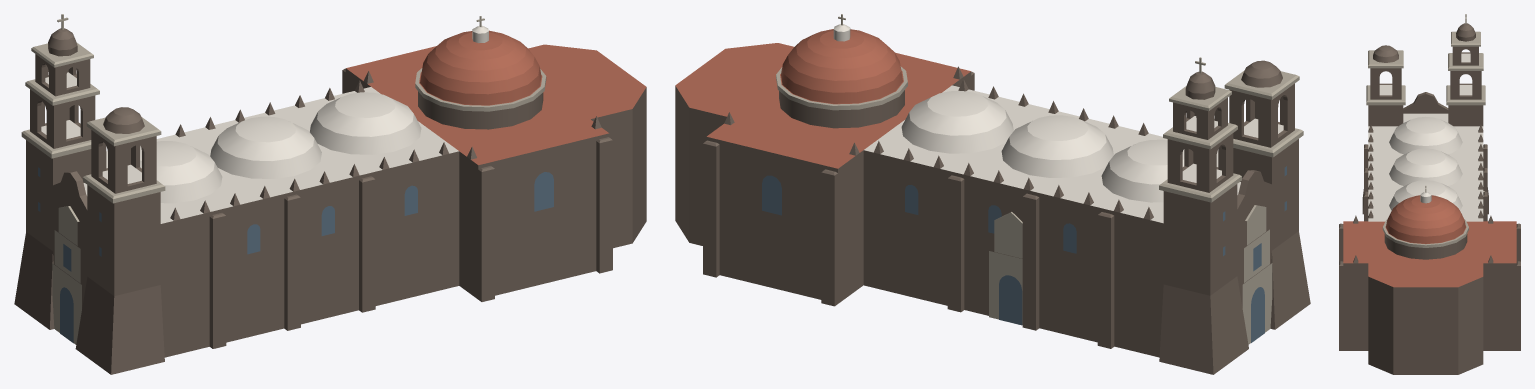
Rendered from mexico-city-santiago-tlatelolco.glb.
3 views of the same model, side by side, from view 1: azimuth 30°, elevation 25°; view 2: azimuth 150°, elevation 25°; view 3: azimuth 270°, elevation 25° (orthographic). The views are drawn at different scales.
Parts seen in each view (by area): view 1: Templo de Santiago Tlatelolco; view 2: Templo de Santiago Tlatelolco; view 3: Templo de Santiago Tlatelolco.
Boxes of the visible parts, box(x1,y1,x2,y2) form: Templo de Santiago Tlatelolco: box(14, 14, 646, 374); Templo de Santiago Tlatelolco: box(675, 14, 1310, 374); Templo de Santiago Tlatelolco: box(1339, 14, 1520, 374).
Size of the model in its own units: 67.4 by 34 by 29.1.
